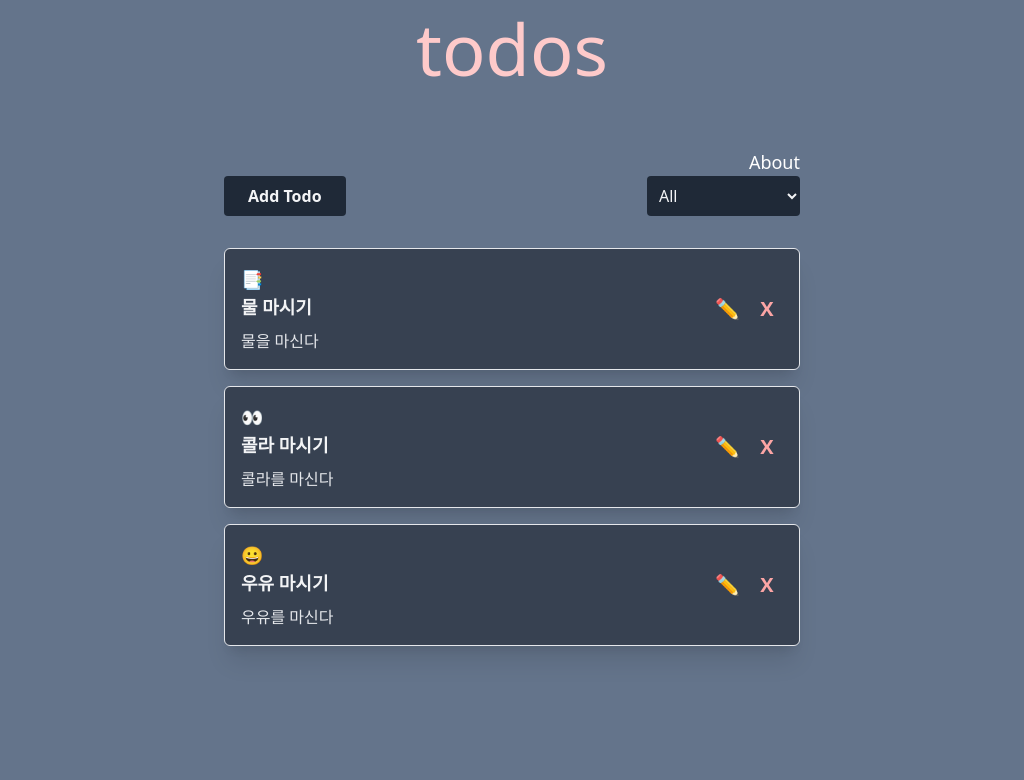
todo 관리 › 새로운 Todo를 작성할 수 있다.
This screenshot has width=1024, height=780.
Click the button "Add Todo": (285, 196) x1=224 y1=176 x2=346 y2=216
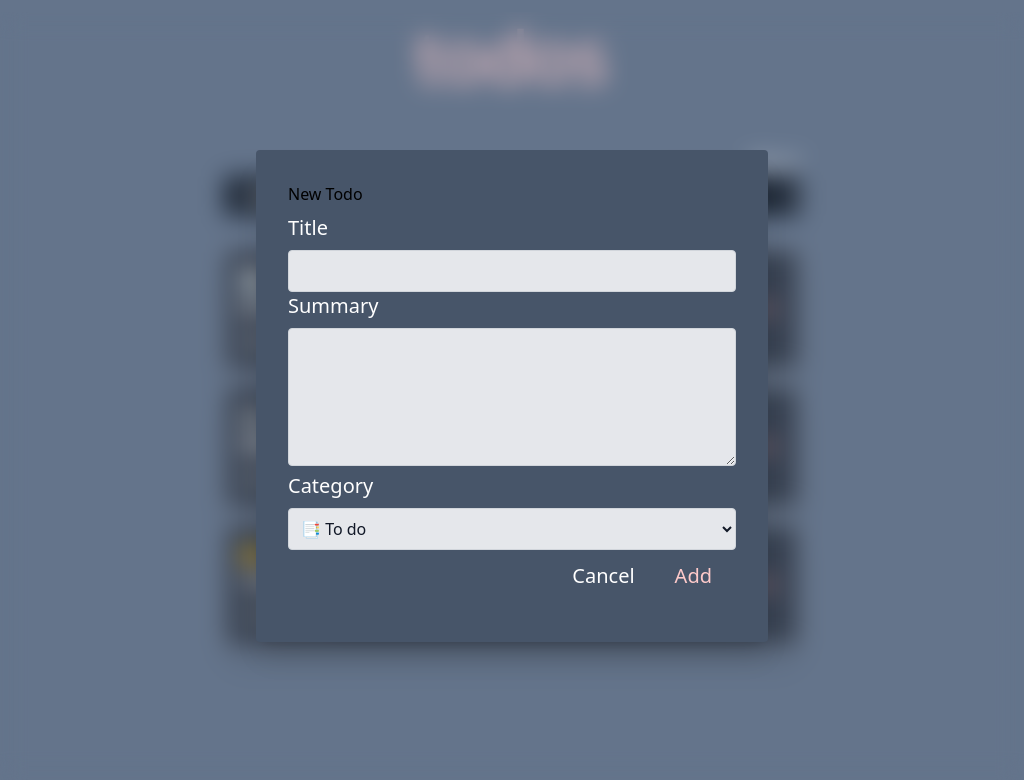
Check: the element with test id "modal-backdrop" is shown
Check: the element with test id "modal-container" is shown, box x1=288 y1=182 x2=736 y2=602
In the field with id "title": (512, 271) x1=288 y1=250 x2=736 y2=292, type "커피 마시기"
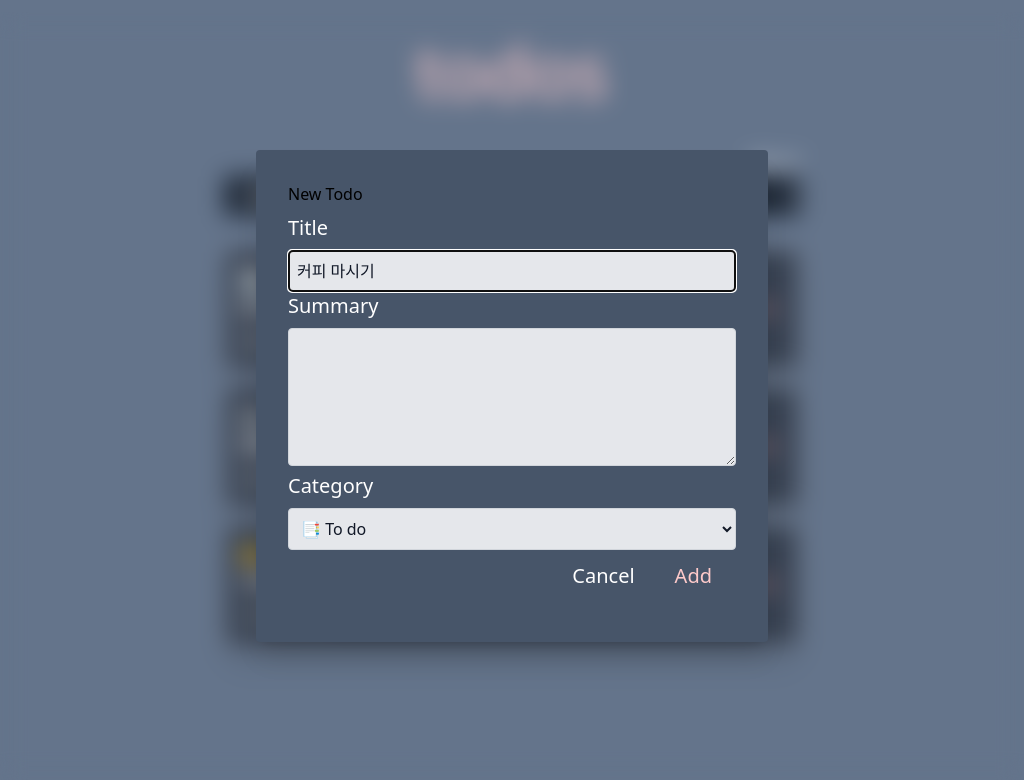
In the text box with id "summary": (512, 397) x1=288 y1=328 x2=736 y2=466, type "커피를 마신다"
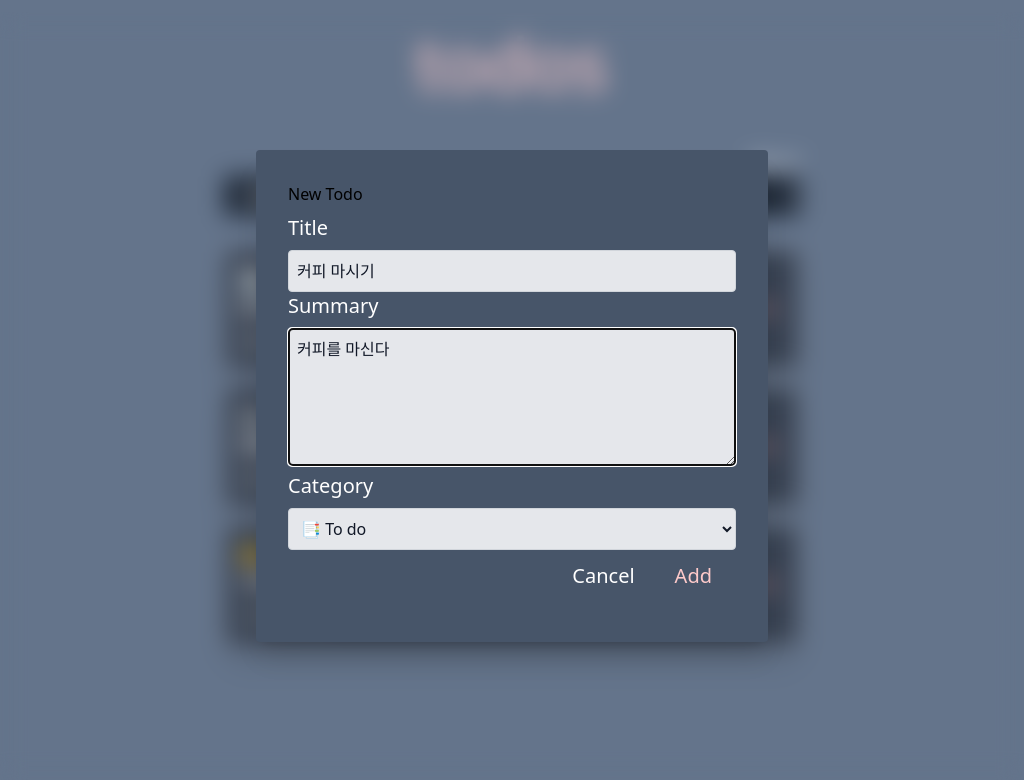
Click the button "Add": (694, 576) x1=651 y1=550 x2=736 y2=602
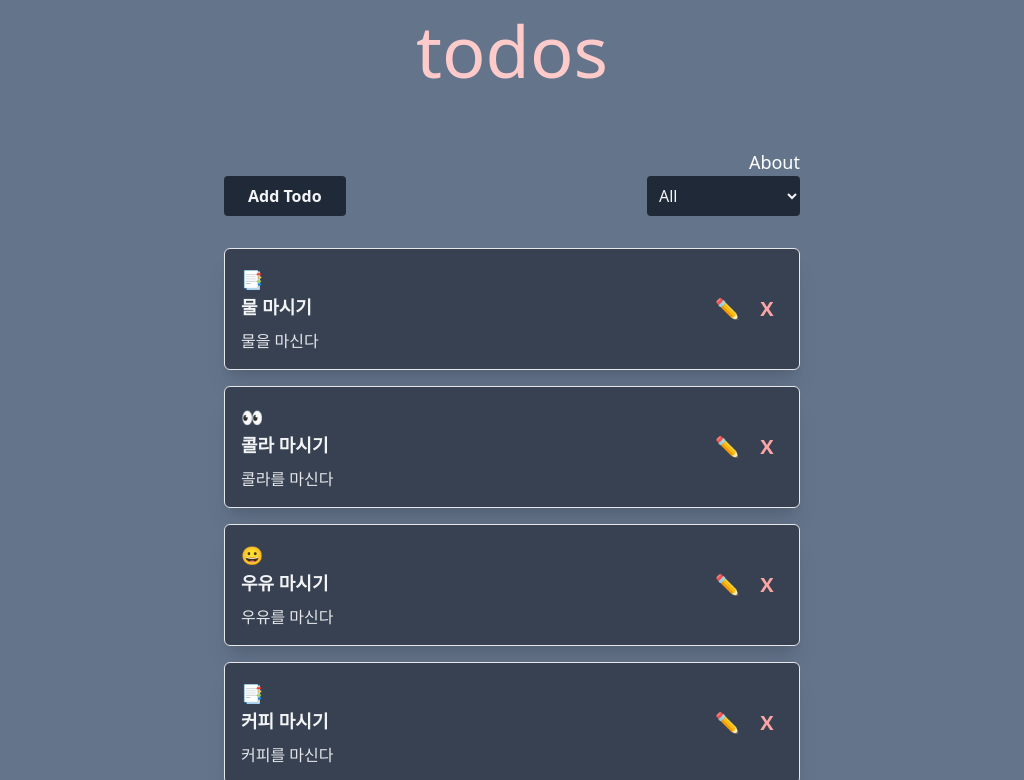
Check: the element with test id "modal-backdrop" is gone
Check: the element with test id "modal-container" is gone
Check: the number of list items is 4, box x1=224 y1=248 x2=800 y2=370; x1=224 y1=386 x2=800 y2=508; x1=224 y1=524 x2=800 y2=646; x1=224 y1=662 x2=800 y2=779
